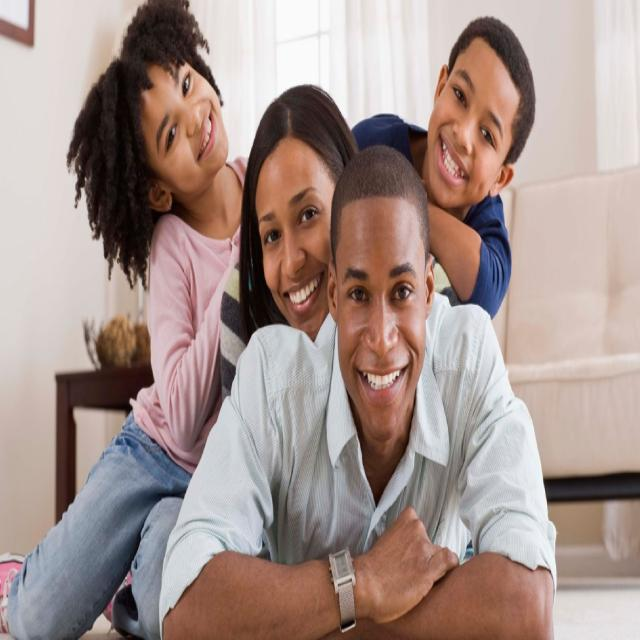adult: (158, 146, 557, 640), (220, 81, 462, 396)
child: (0, 0, 249, 640), (351, 17, 535, 324)
